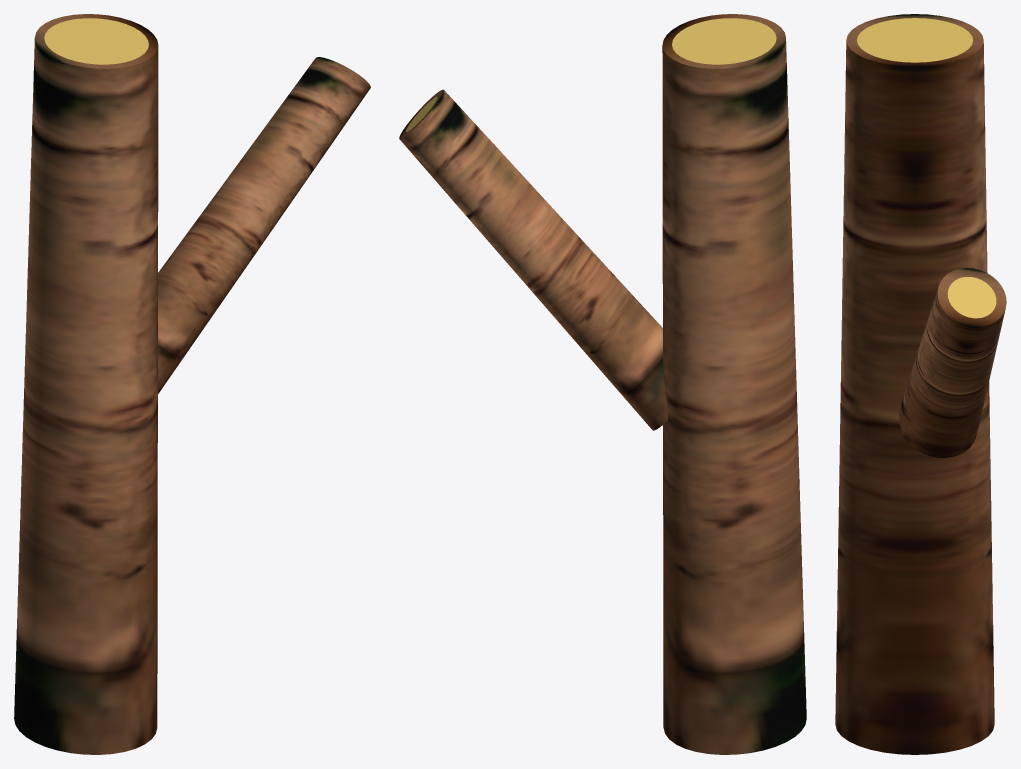
The model's file is bibit singkong.fbx.
The picture shows the model from 3 angles, left to right: view 1: azimuth 30°, elevation 25°; view 2: azimuth 150°, elevation 25°; view 3: azimuth 270°, elevation 25°; orthographic projection.
Parts seen in each view (by area): view 1: Cylinder.001; view 2: Cylinder.001; view 3: Cylinder.001.
Boxes of the visible parts, x1,y1,x2,y2 form: Cylinder.001: (14, 14, 370, 754); Cylinder.001: (399, 14, 806, 754); Cylinder.001: (835, 14, 1006, 754).
Bounding box in the file's own units: 18.46 × 32.97 × 7.41.
Materials: 3 (2 with a texture image).
